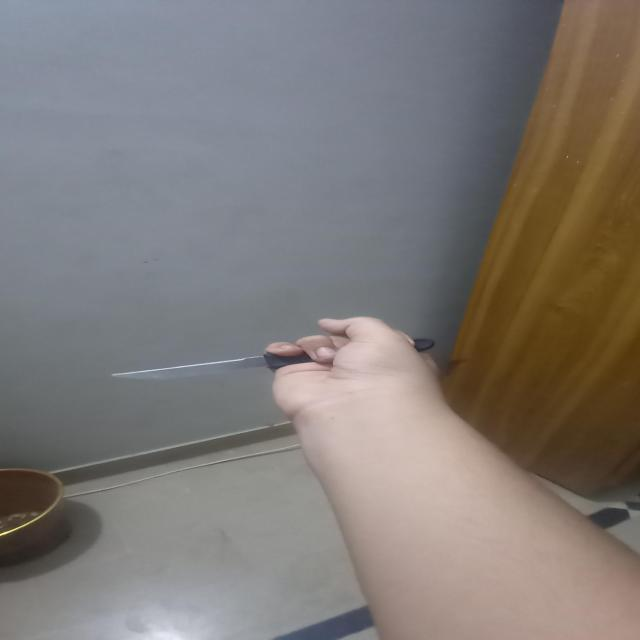faca: (112, 331, 438, 382)
